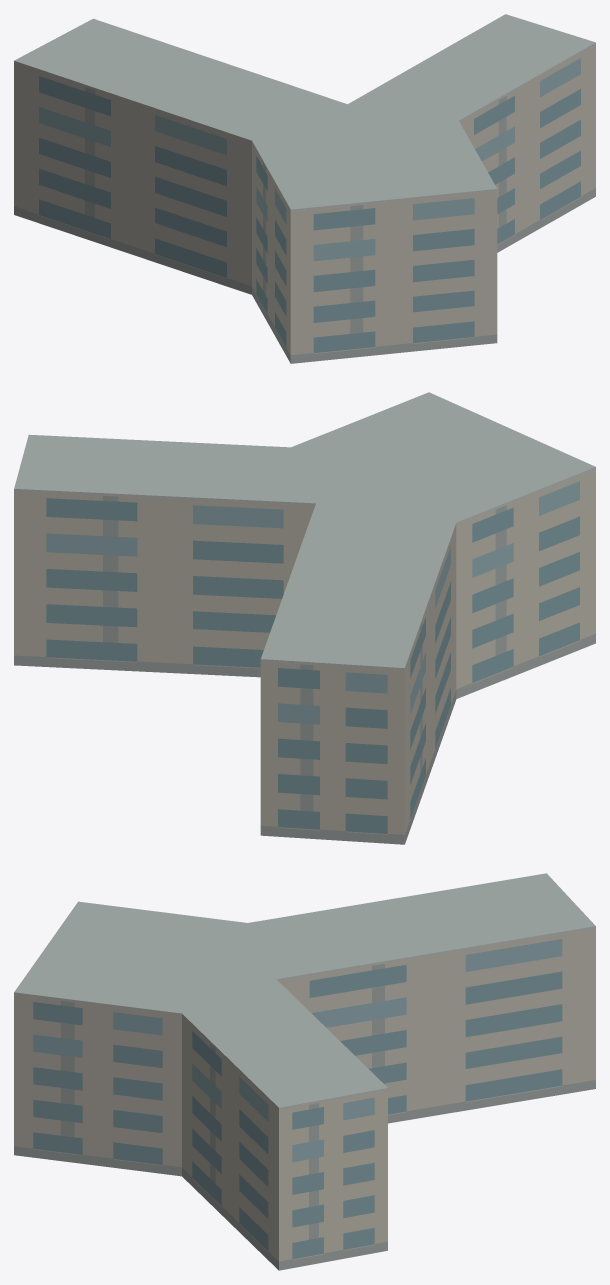
File: residential-bcb35ecc-e2be-467d-b9ad-7be2727c58d3.glb
3 views of the same model, one above another, from view 1: azimuth 30°, elevation 25°; view 2: azimuth 150°, elevation 25°; view 3: azimuth 270°, elevation 25° (orthographic). The views are drawn at different scales.
Visible parts, largest first — view 1: residential-bcb35ecc-e2be-467d-b9ad-7be2727c58d3.tmp; view 2: residential-bcb35ecc-e2be-467d-b9ad-7be2727c58d3.tmp; view 3: residential-bcb35ecc-e2be-467d-b9ad-7be2727c58d3.tmp.
Part boxes in pixels (left/top/right/bottom): residential-bcb35ecc-e2be-467d-b9ad-7be2727c58d3.tmp: left=14, top=14, right=595, bottom=363; residential-bcb35ecc-e2be-467d-b9ad-7be2727c58d3.tmp: left=14, top=392, right=595, bottom=844; residential-bcb35ecc-e2be-467d-b9ad-7be2727c58d3.tmp: left=14, top=873, right=595, bottom=1270.
Size of the model in its own units: 47.11 by 15.25 by 49.39.
